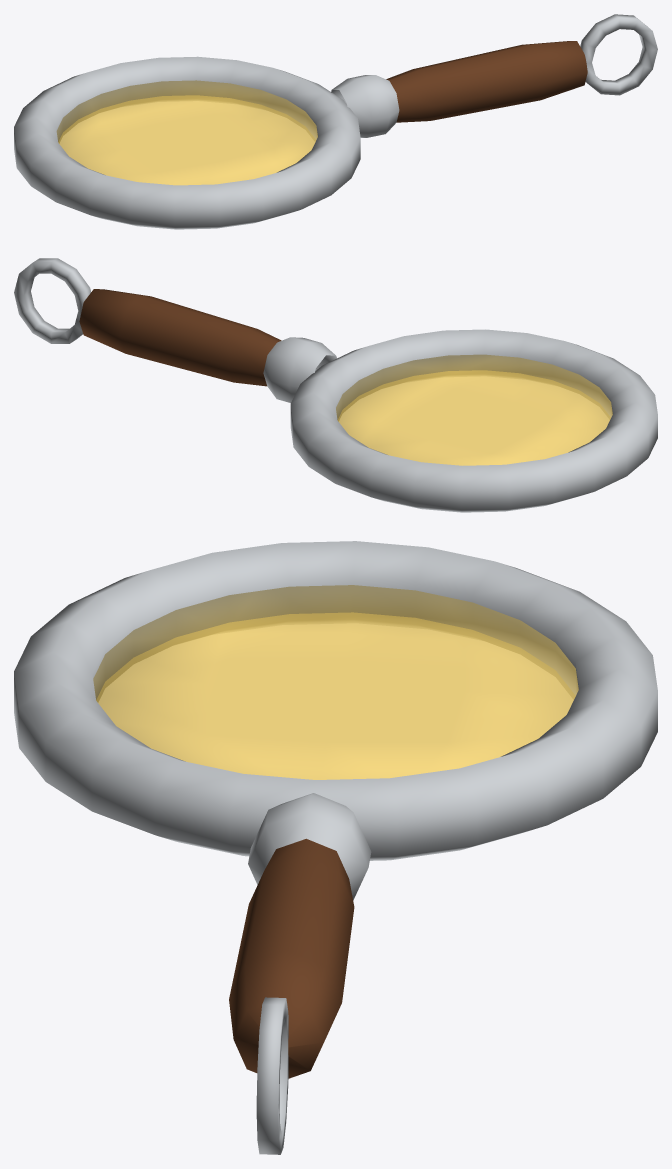
Rendered from Lente.glb.
3 renders of one model, top to bottom at view 1: azimuth 30°, elevation 25°; view 2: azimuth 150°, elevation 25°; view 3: azimuth 270°, elevation 25°, orthographic. The views are drawn at different scales.
Parts seen in each view (by area): view 1: Lente; view 2: Lente; view 3: Lente.
Part boxes in pixels (left/top/right/bottom): Lente: left=14, top=14, right=657, bottom=229; Lente: left=14, top=258, right=657, bottom=512; Lente: left=14, top=541, right=657, bottom=1154.
Size of the model in its own units: 0.3405 by 0.0417 by 0.1704.
